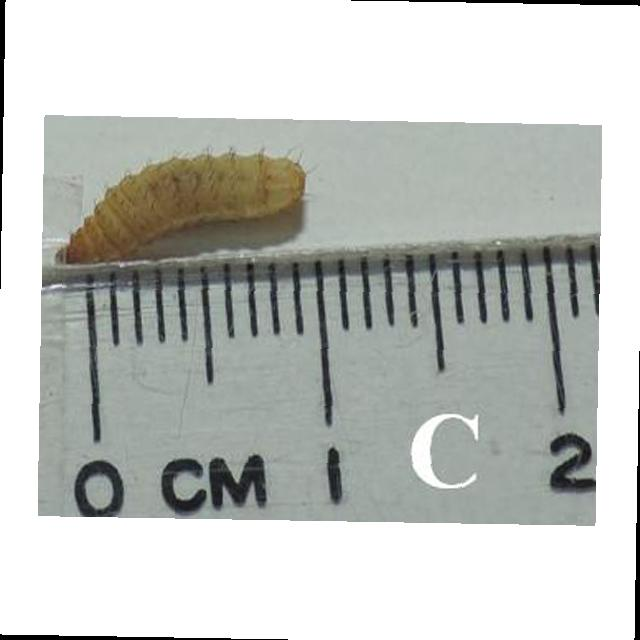Maggot: (56, 151, 309, 267)
